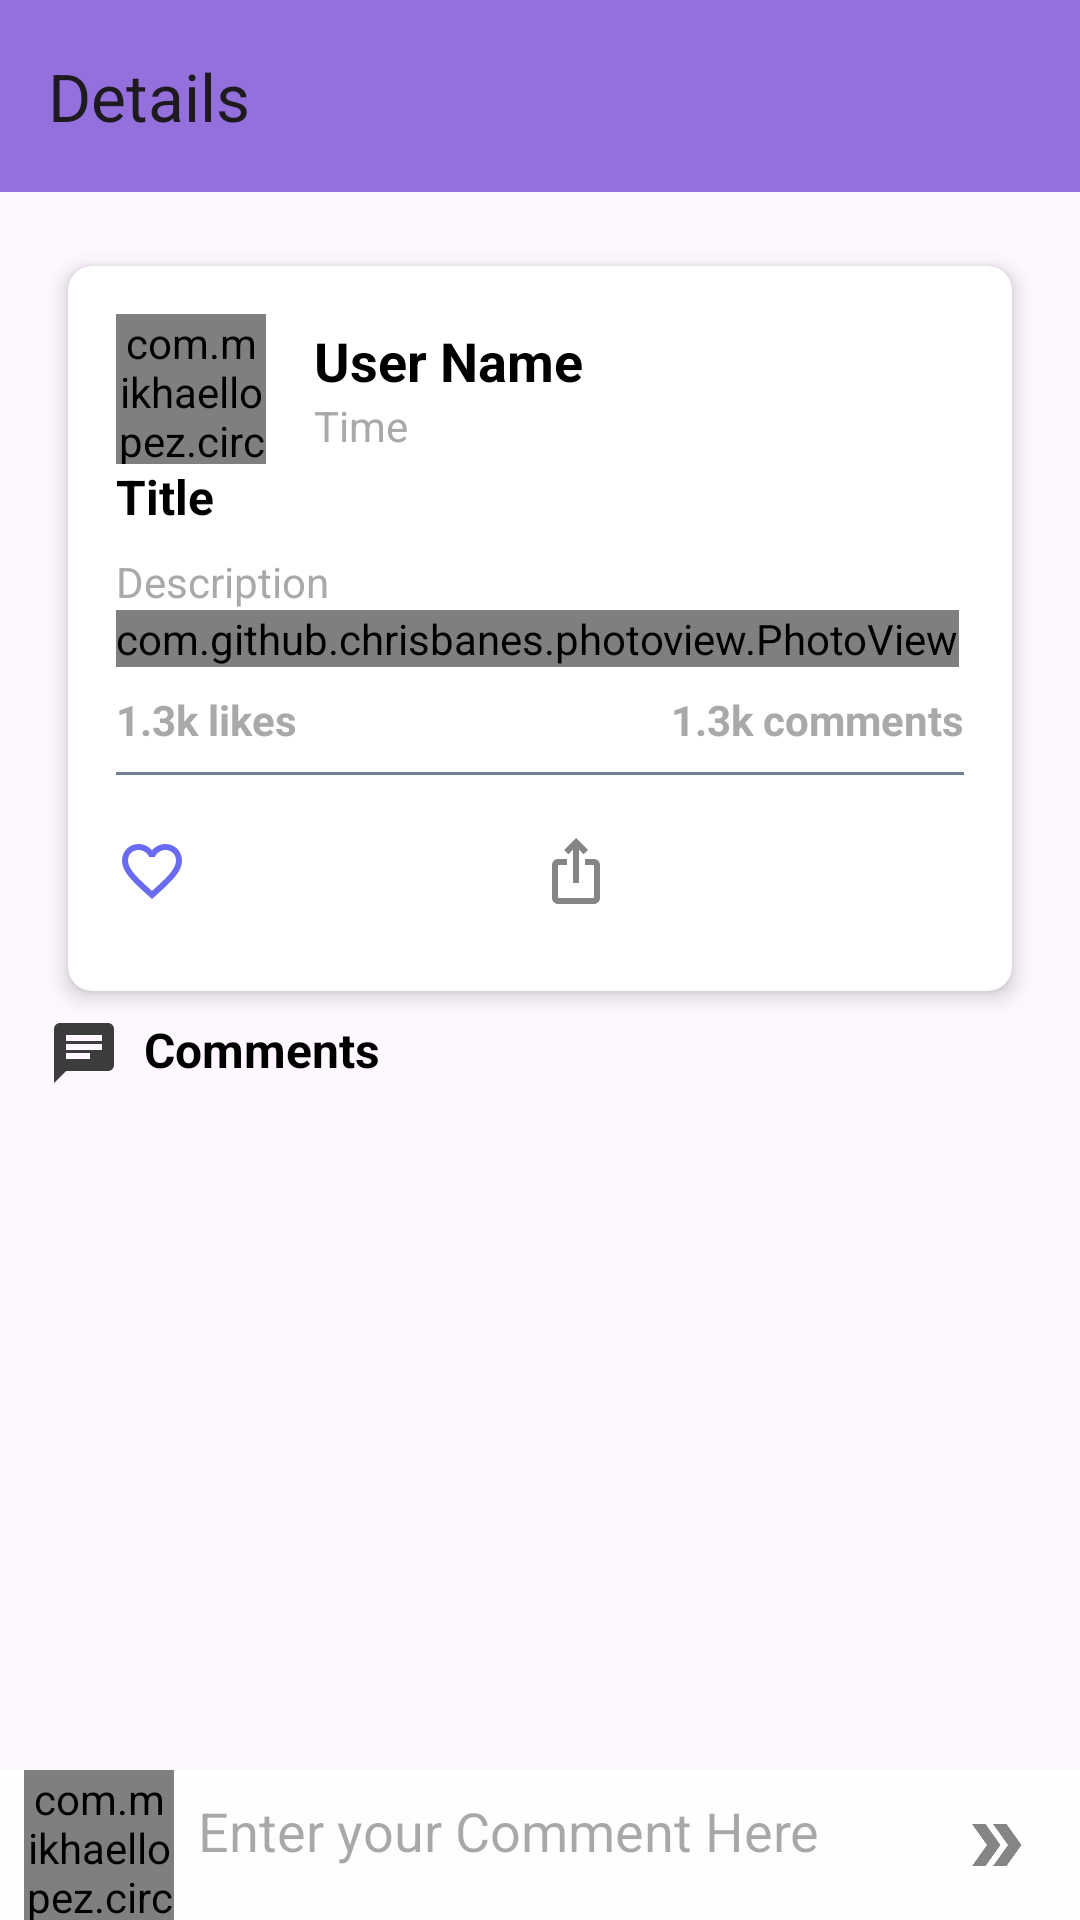

Named icons in this screenshot (1080x1920) and their bounding boxes, (x1, y1, x2, y2):
send: (972, 1824, 1021, 1866)
